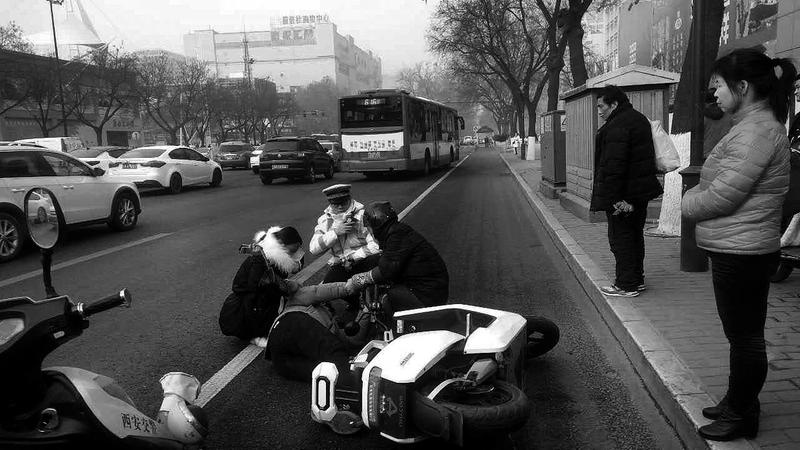falling: (243, 244, 393, 401)
